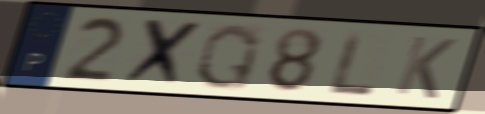2: (60, 15, 129, 84)
8: (265, 26, 324, 95)
K: (391, 33, 459, 102)
L: (327, 29, 377, 98)
Q: (191, 21, 264, 92)
X: (118, 16, 207, 90)
